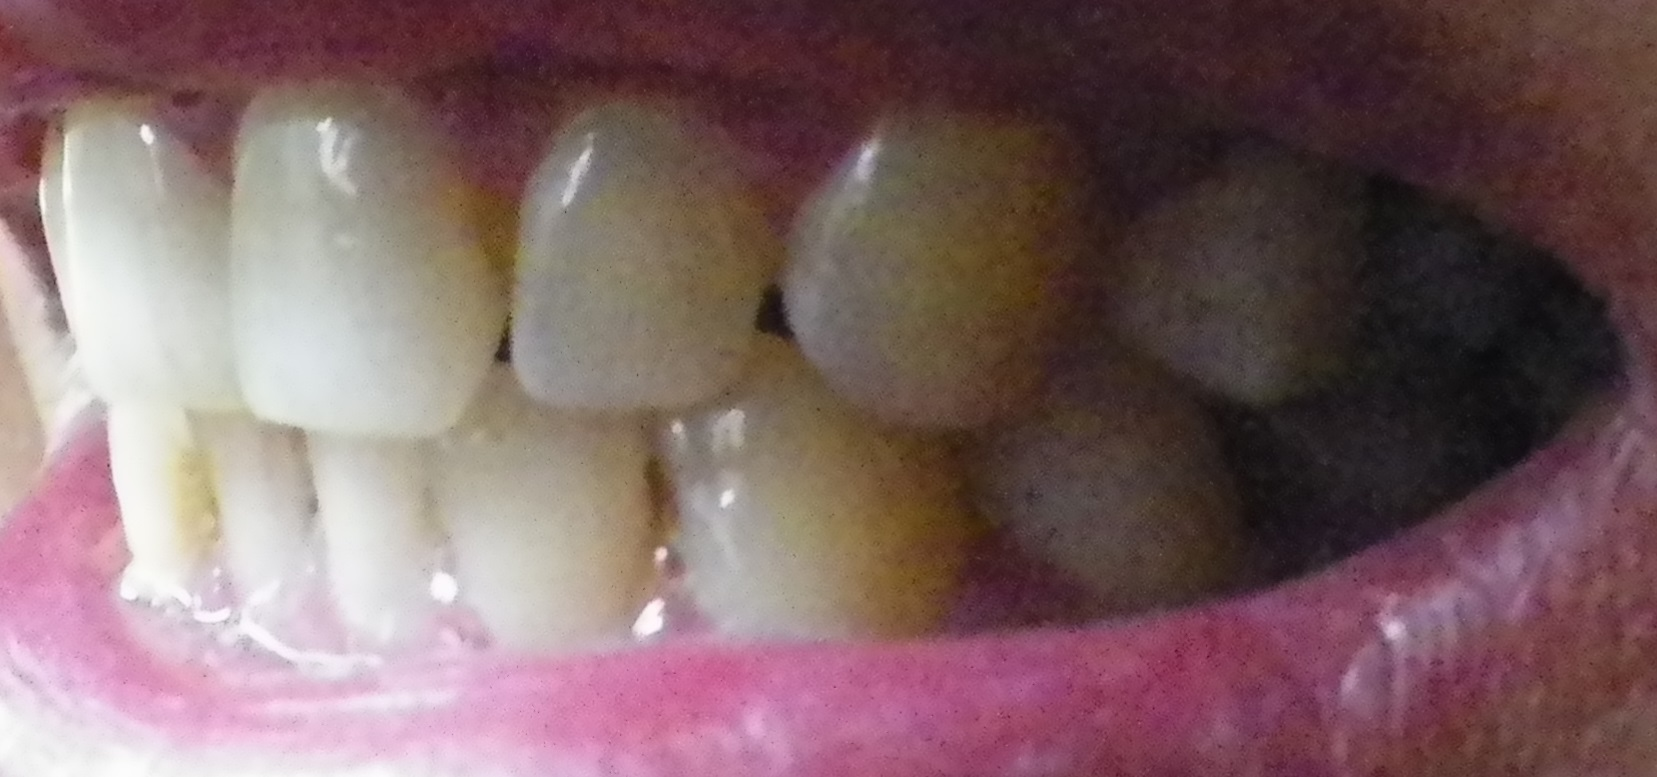boca: (39, 75, 1575, 658)
